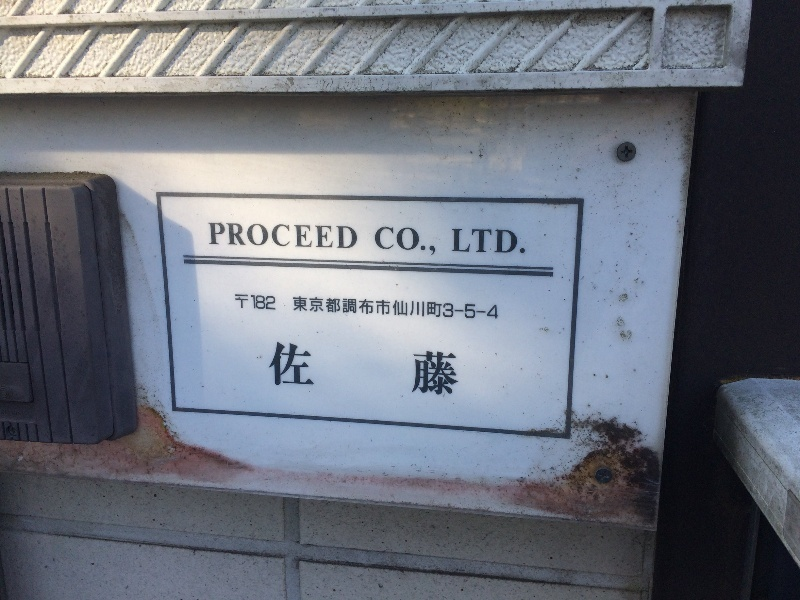text: (273, 339, 288, 399), (289, 339, 304, 399), (305, 339, 320, 399), (321, 339, 336, 399), (337, 339, 352, 399), (353, 339, 368, 399), (369, 339, 384, 399), (385, 339, 400, 399), (401, 339, 416, 399), (417, 339, 432, 399), (433, 339, 448, 399), (449, 339, 464, 399), (385, 227, 400, 257), (401, 227, 416, 257), (417, 227, 432, 257), (209, 221, 224, 250), (225, 221, 240, 250), (241, 221, 256, 250), (257, 221, 272, 250), (273, 221, 288, 250), (289, 221, 304, 250), (305, 221, 320, 250), (321, 221, 336, 250), (337, 221, 352, 250), (465, 229, 480, 254), (481, 229, 496, 254), (497, 229, 512, 254), (513, 229, 528, 254), (451, 229, 464, 254), (305, 297, 320, 318), (321, 297, 336, 318), (337, 297, 352, 318), (353, 297, 368, 318), (369, 297, 384, 318), (385, 297, 400, 318), (401, 297, 416, 318), (417, 297, 432, 318), (433, 297, 448, 318), (449, 297, 464, 318), (465, 297, 480, 318), (481, 297, 496, 318), (241, 296, 256, 313), (257, 296, 272, 313), (376, 227, 384, 257), (353, 221, 361, 250), (293, 297, 304, 318), (269, 339, 272, 399), (433, 227, 437, 257), (235, 296, 240, 313), (465, 339, 466, 399), (497, 297, 499, 318), (273, 296, 275, 313)
